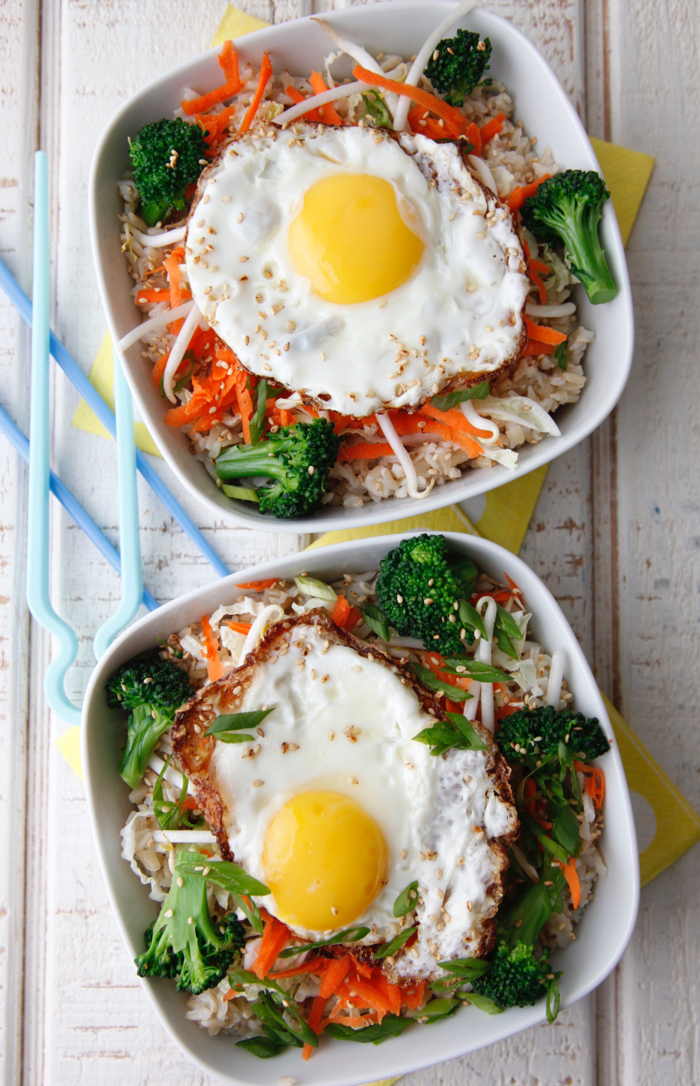fried egg: (222, 695, 468, 943), (228, 145, 464, 367)
